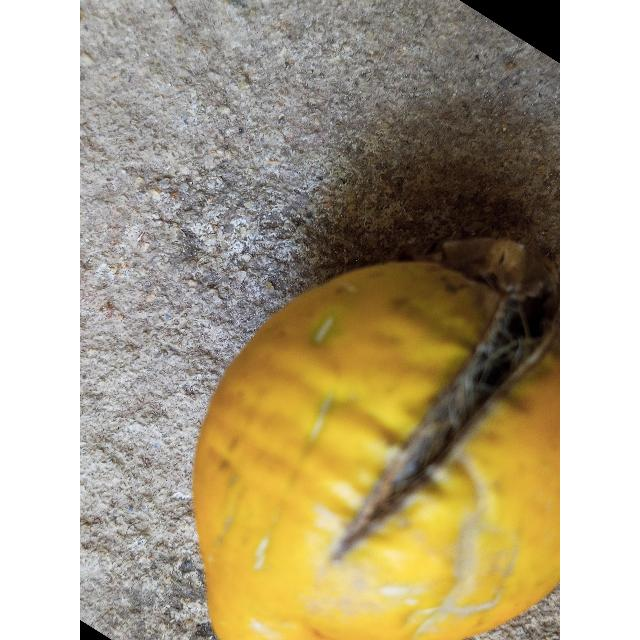damaged: (192, 240, 560, 640)
